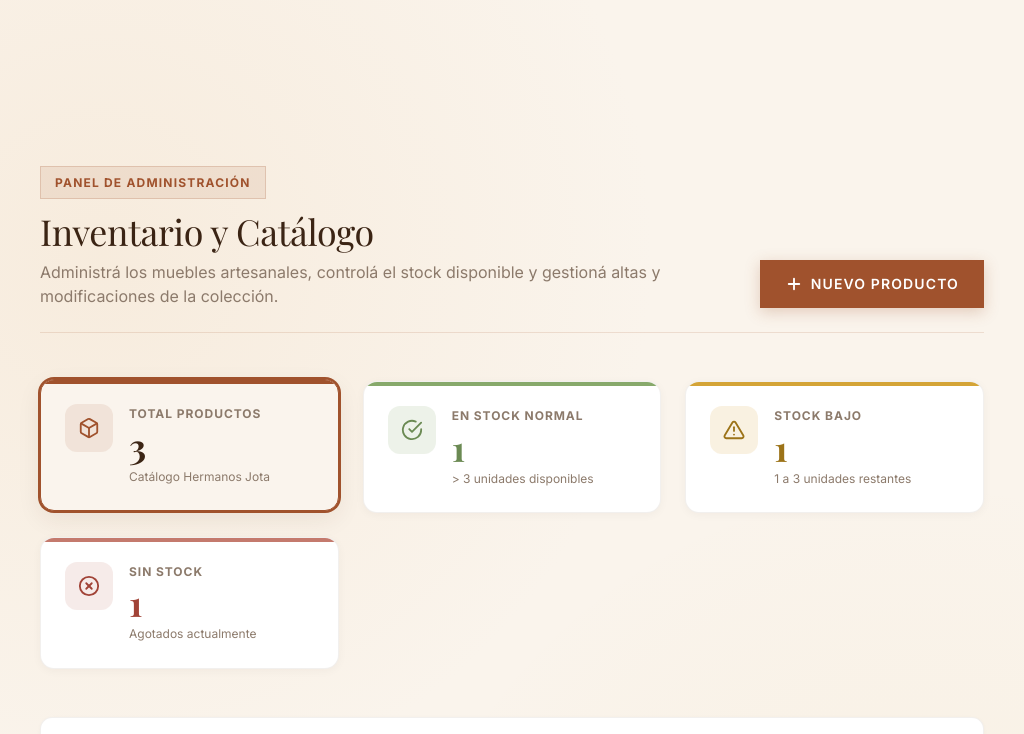
it: AdminPanel Component › filtra productos al hacer clic en las tarjetas de stock (KPIs con multi-selección)
Step 1. Click the button titled "Filtrar por productos sin stock" → (89, 586), box [40,537,339,669]
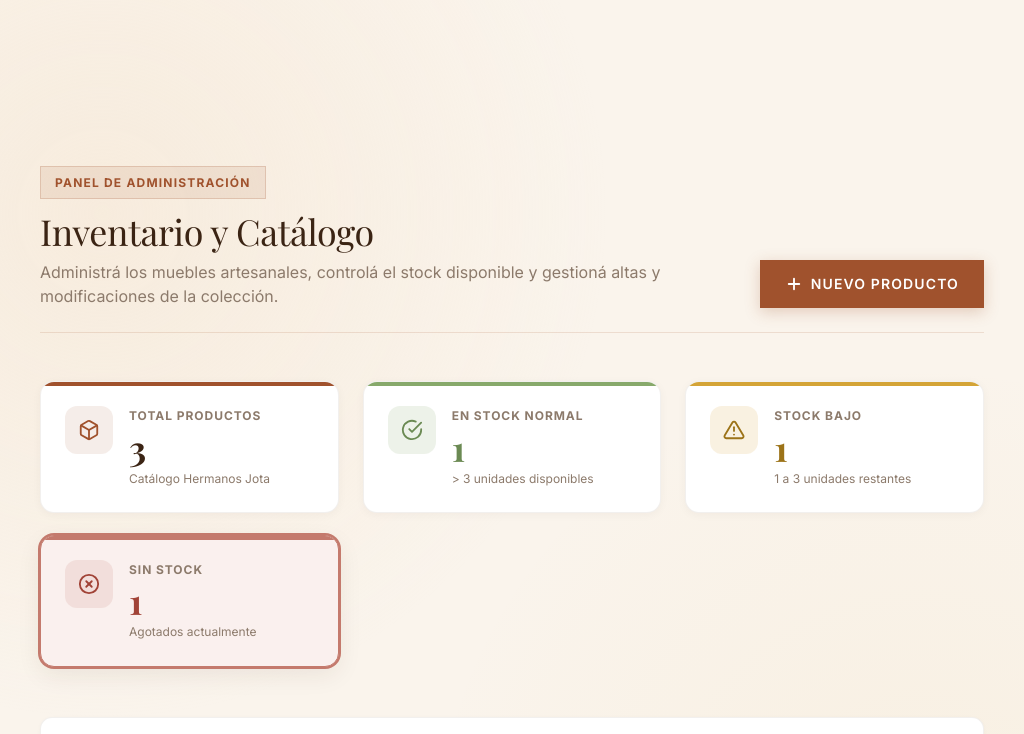
Expected: the text "Sillón Bauhaus" is not shown
// Clic en la tarjeta "Stock Bajo" (multi-selección: Stock Bajo + Sin Stock)
Step 2. Click the button titled "Filtrar por productos con stock bajo" → (734, 430), box [685,381,984,513]
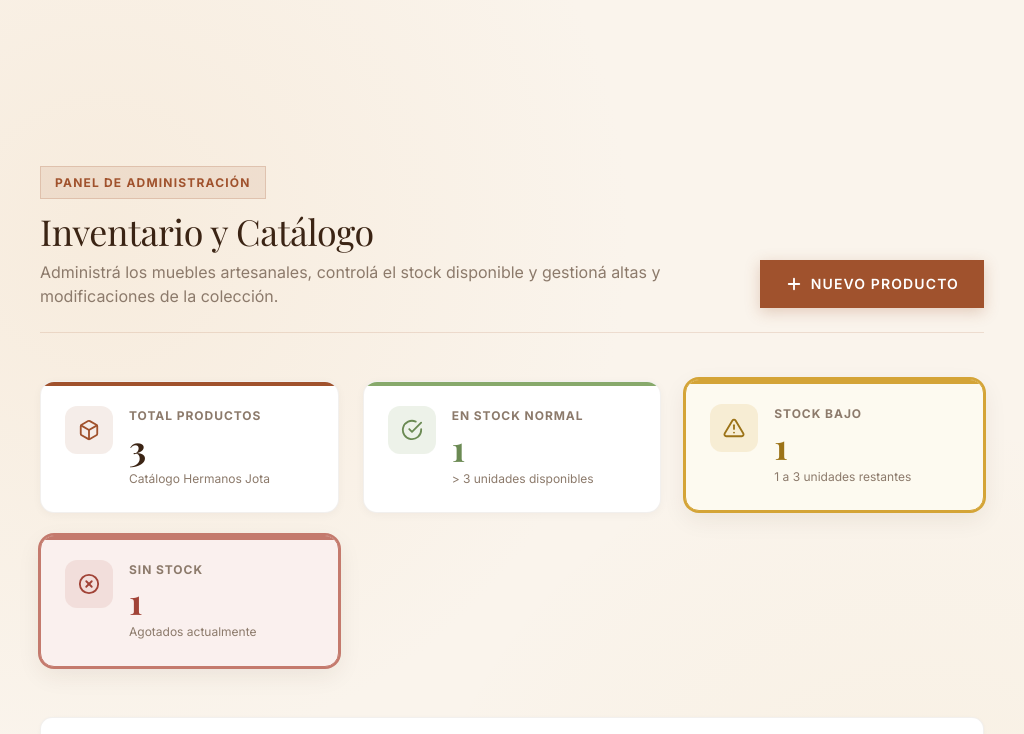
Expected: the text "Sillón Bauhaus" is not shown
// Clic en "Total Productos" para restablecer y deseleccionar los filtros individuales
Step 3. Click the button titled "Ver catálogo completo" → (89, 430), box [40,381,339,513]
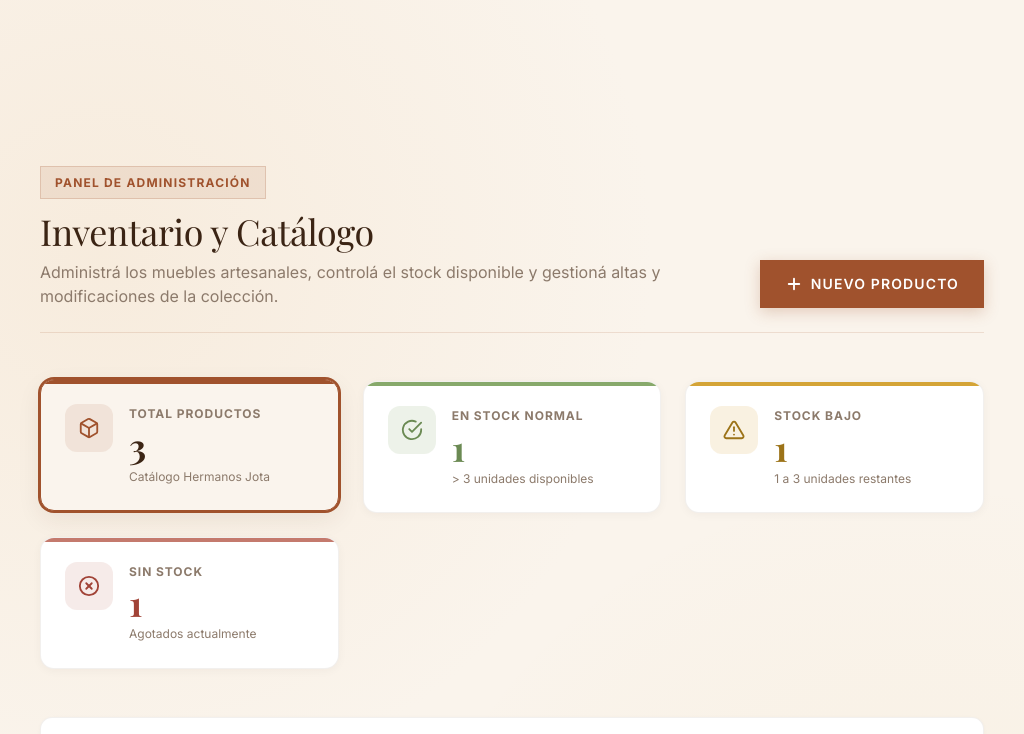
// Alternar individual: clic en "Stock Bajo" para activar, y segundo clic para desactivar
Step 4. Click the button titled "Filtrar por productos con stock bajo" → (734, 430), box [685,381,984,513]
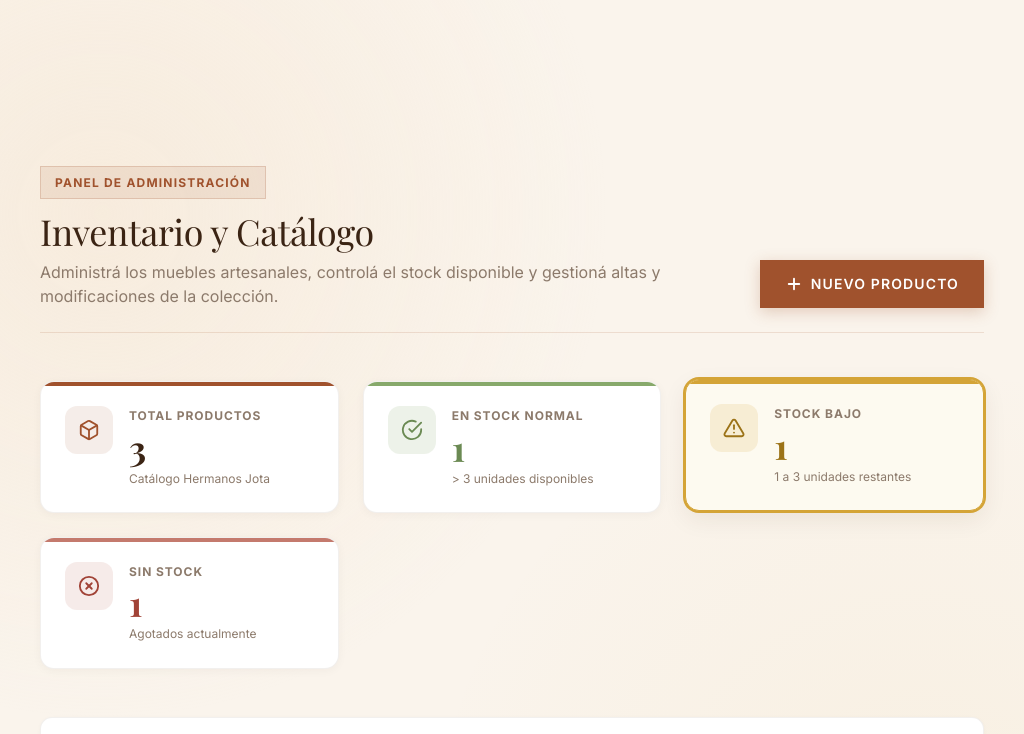
Step 5. Click the button titled "Filtrar por productos con stock bajo" → (734, 428), box [685,379,984,511]
(page scrolled)
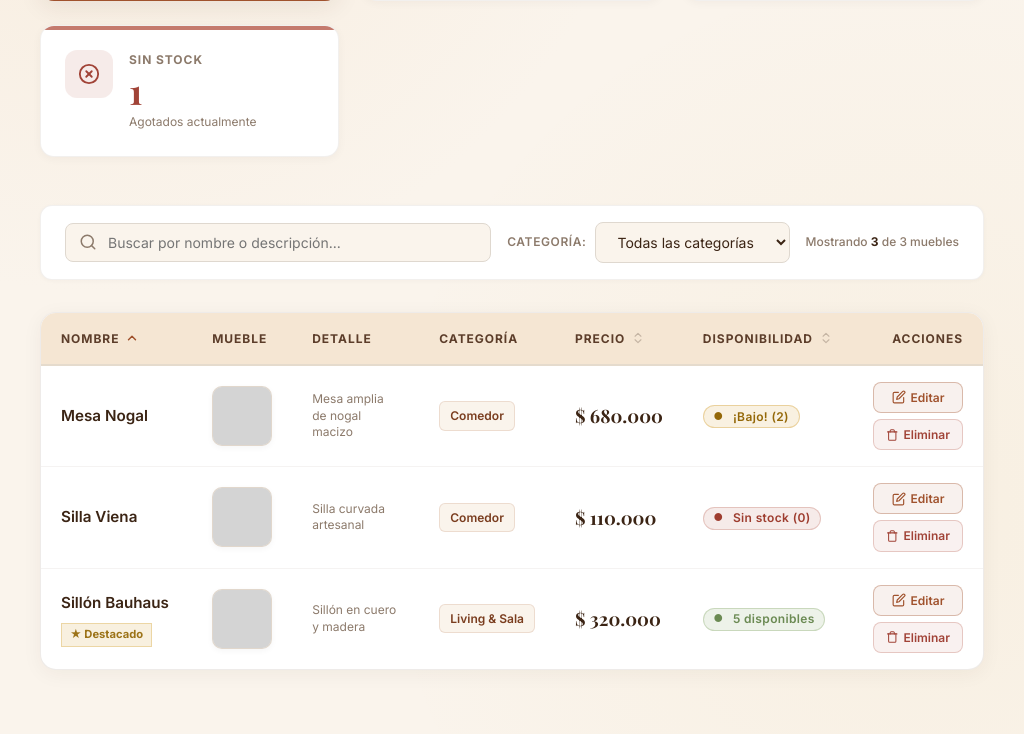
Expected: the text "Mesa Nogal" is shown, [61,404,148,428]
Expected: the text "Sillón Bauhaus" is shown, [61,591,169,615]
Expected: the text "Silla Viena" is shown, [61,505,137,530]
